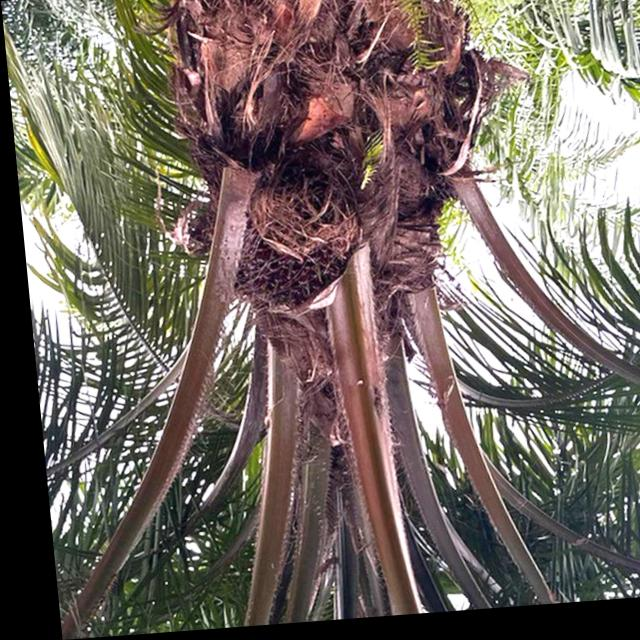ripe: (173, 150, 378, 331)
